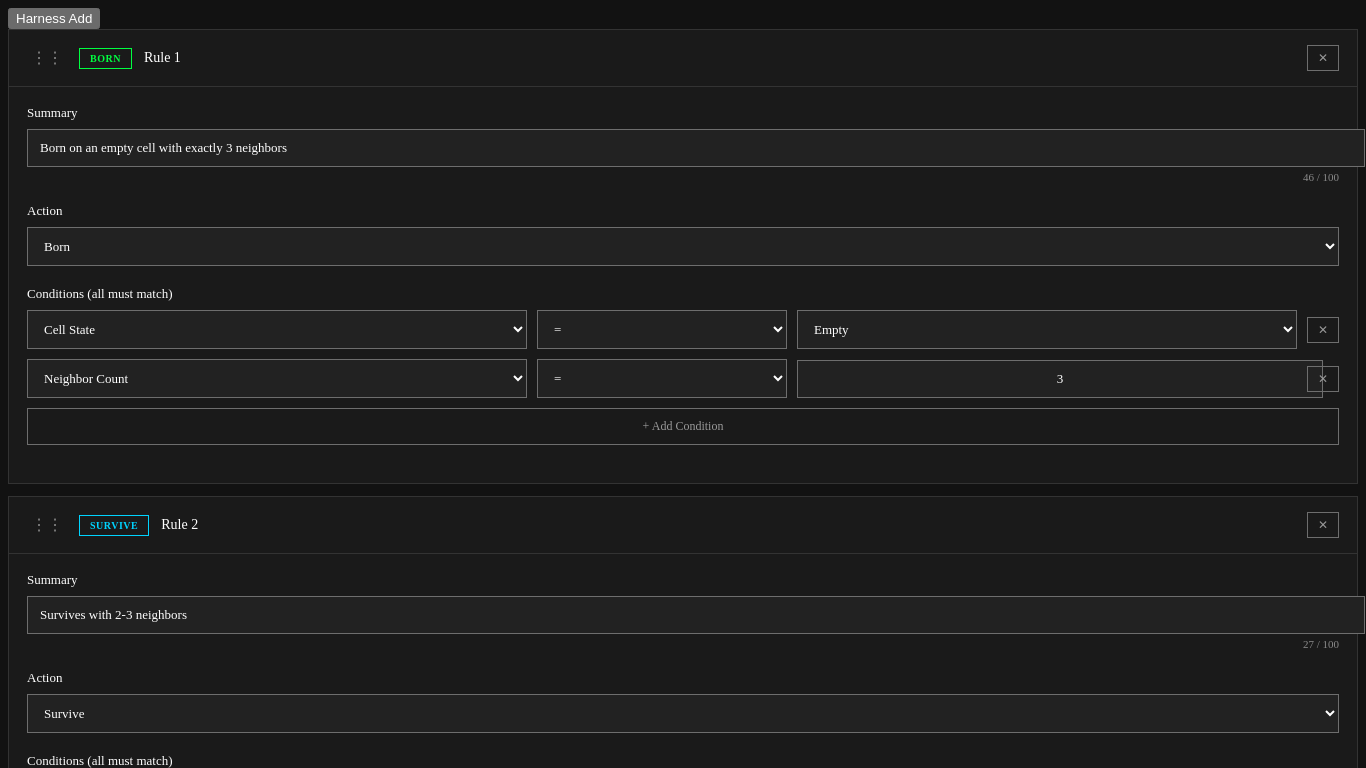
Test: RulesEditor › deleting the middle renumbers and focuses the Summary of the card now at that position
Step 1. Click the button named "Delete rule 2" → (1323, 525), box [1307,512,1339,538]
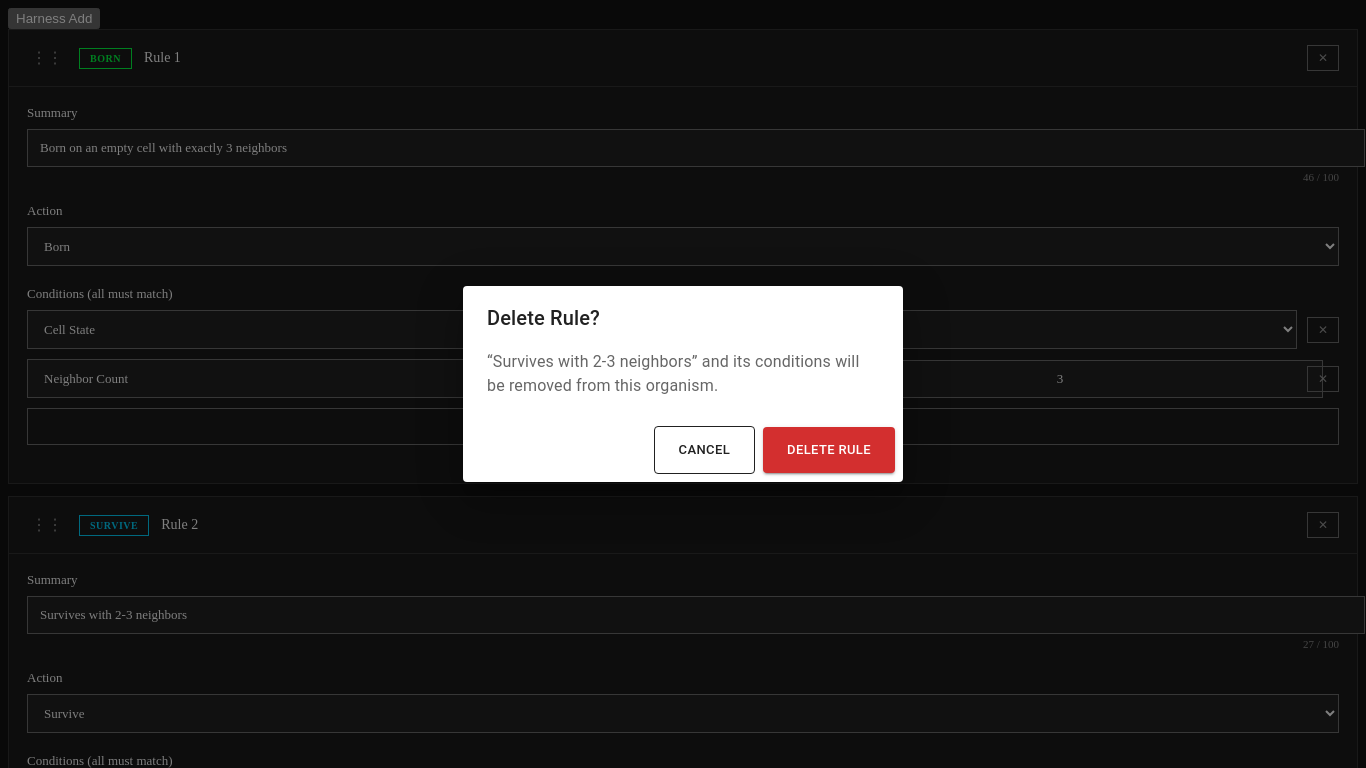
Step 2. Click the button "Delete Rule" → (829, 450), box [763,427,895,473]
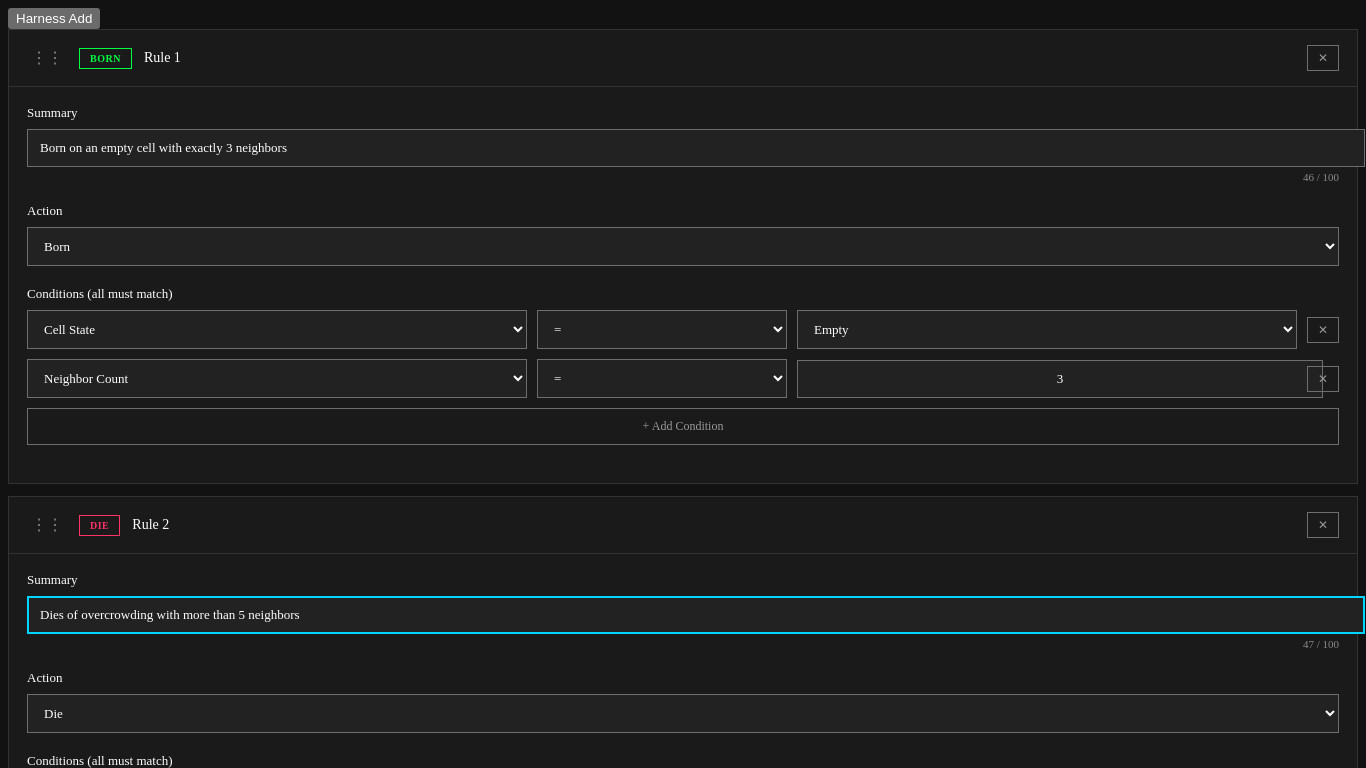
Expected: the element "Rule 1" is shown, [9,30,1357,483]
Result: the heading "Delete Rule?" is gone
